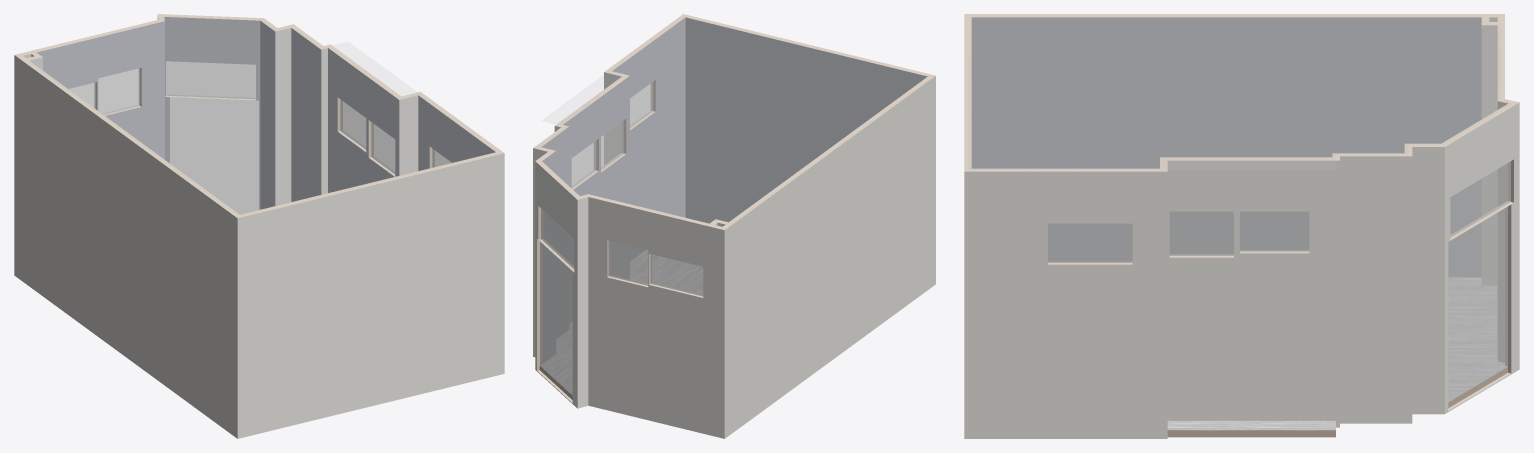
Rendered from 12_13_2025-3Dplan.fbx.
3 views of the same model, side by side, from view 1: azimuth 30°, elevation 25°; view 2: azimuth 150°, elevation 25°; view 3: azimuth 270°, elevation 25° (orthographic). The views are drawn at different scales.
Visible parts, largest first — view 1: wall_11, ceiling_Living Room_2, wall_14, door_0, door_2, wall_28, wall_40, wall_24, wall_20, window_0, window_6, wall_46 (+20 smaller); view 2: wall_14, ceiling_Living Room_2, wall_38, wall_6, wall_18, wall_40, door_0, door_2, wall_8, wall_4, floor_Living Room_0, wall_5 (+26 smaller); view 3: wall_44, ceiling_Living Room_2, wall_1, wall_12, wall_2, door_0, door_2, wall_9, wall_4, floor_Living Room_0, window_1, window_7 (+19 smaller).
Part boxes in pixels (<box>): wall_11: <box>237,153,504,438</box>; ceiling_Living Room_2: <box>29,16,471,214</box>; wall_14: <box>22,61,237,438</box>; door_0: <box>170,97,258,214</box>; door_2: <box>170,97,258,213</box>; wall_28: <box>37,21,164,159</box>; wall_40: <box>328,48,399,192</box>; wall_24: <box>164,17,260,209</box>; wall_20: <box>291,28,321,201</box>; window_0: <box>166,61,255,98</box>; window_6: <box>166,62,255,98</box>; wall_46: <box>275,28,291,205</box>; wall_14: <box>732,76,935,432</box>; ceiling_Living Room_2: <box>542,23,926,222</box>; wall_38: <box>685,17,927,223</box>; wall_6: <box>588,197,708,434</box>; wall_18: <box>612,17,685,260</box>; wall_40: <box>563,76,629,322</box>; door_0: <box>540,242,572,394</box>; door_2: <box>540,242,572,394</box>; wall_8: <box>709,226,724,438</box>; wall_4: <box>535,161,577,408</box>; floor_Living Room_0: <box>540,250,702,394</box>; wall_5: <box>577,197,588,408</box>; wall_44: <box>971,17,1481,276</box>; ceiling_Living Room_2: <box>968,17,1511,153</box>; wall_1: <box>964,171,1167,438</box>; wall_12: <box>1167,160,1339,427</box>; wall_2: <box>1340,156,1412,423</box>; door_0: <box>1448,207,1507,401</box>; door_2: <box>1448,207,1507,401</box>; wall_9: <box>1412,147,1444,414</box>; wall_4: <box>1445,102,1519,413</box>; floor_Living Room_0: <box>1448,277,1507,402</box>; window_1: <box>1048,224,1132,262</box>; window_7: <box>1048,224,1132,262</box>.
Bounding box in the file's own units: 4.92 × 3.89 × 7.32.
39 materials, 3 textured.
